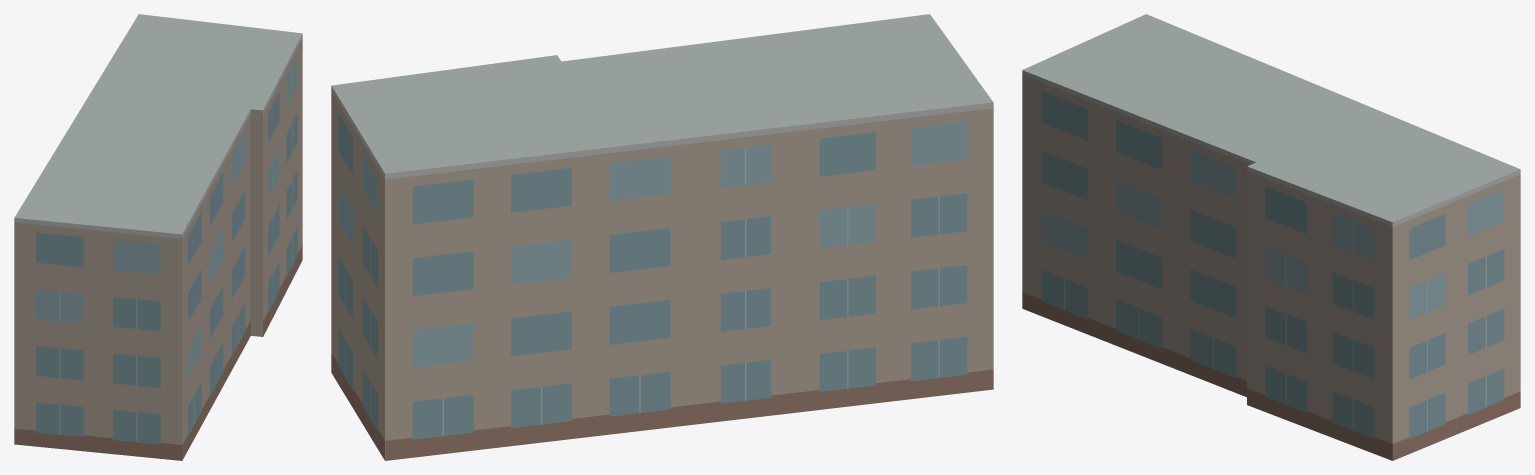
File: survey-upis-32889097.glb
3 renders of one model, left to right at view 1: azimuth 30°, elevation 25°; view 2: azimuth 150°, elevation 25°; view 3: azimuth 270°, elevation 25°, orthographic. The views are drawn at different scales.
Visible parts, largest first — view 1: survey-upis-32889097.tmp; view 2: survey-upis-32889097.tmp; view 3: survey-upis-32889097.tmp.
Part boxes in pixels (x1=…): survey-upis-32889097.tmp: x1=14, y1=14, x2=302, y2=460; survey-upis-32889097.tmp: x1=331, y1=14, x2=993, y2=460; survey-upis-32889097.tmp: x1=1022, y1=14, x2=1520, y2=460.
Size of the model in its own units: 22.86 by 12.2 by 23.11.
